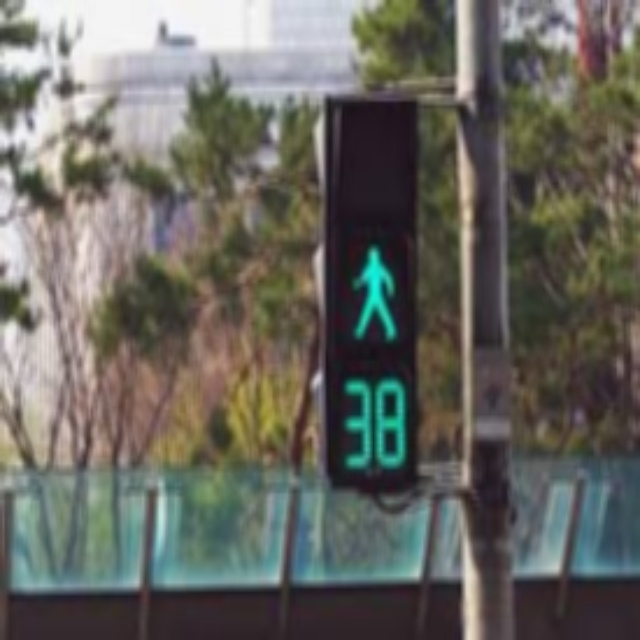green_light: (340, 376, 405, 475), (347, 240, 398, 350)
